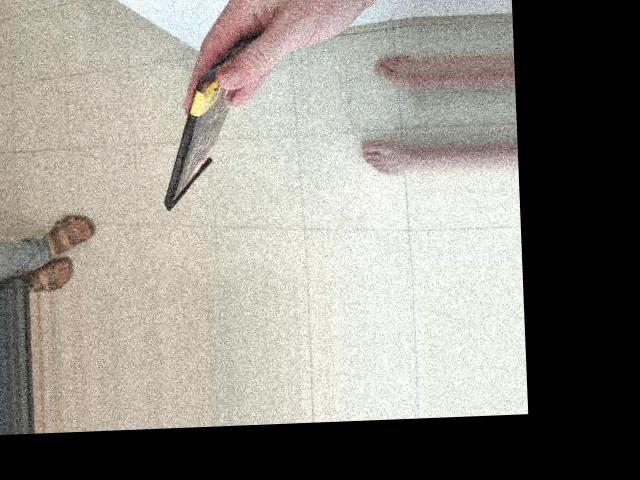chocolate: (149, 29, 267, 213)
